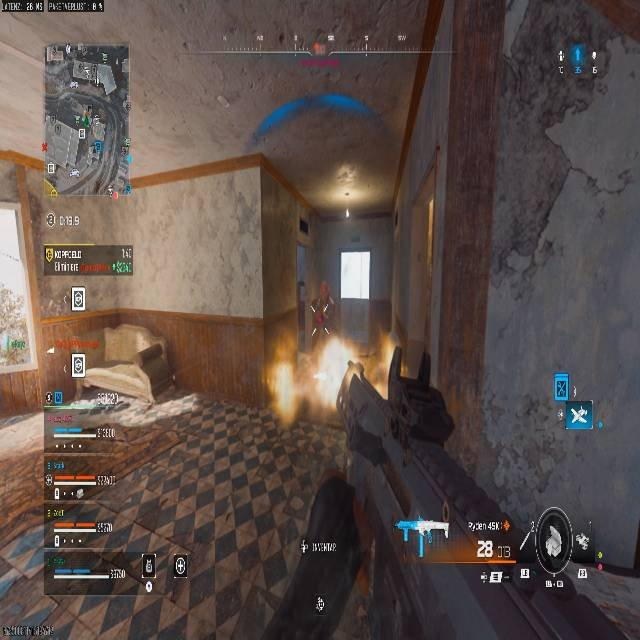player: (313, 281, 331, 328)
